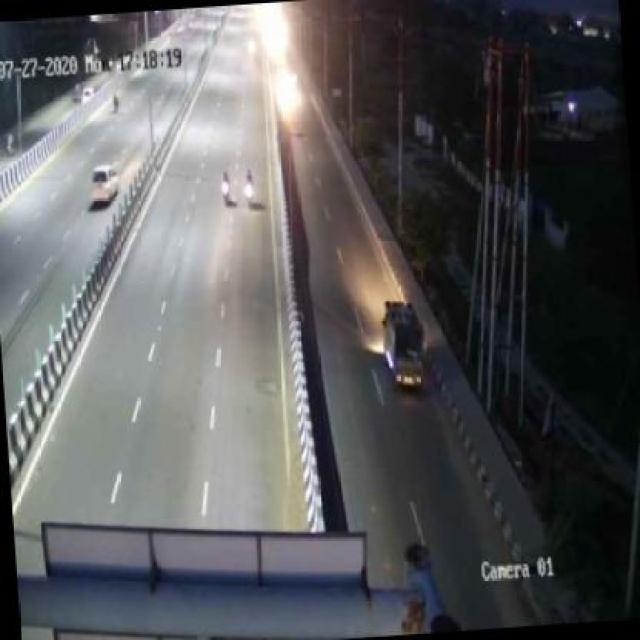car: (376, 296, 432, 398)
